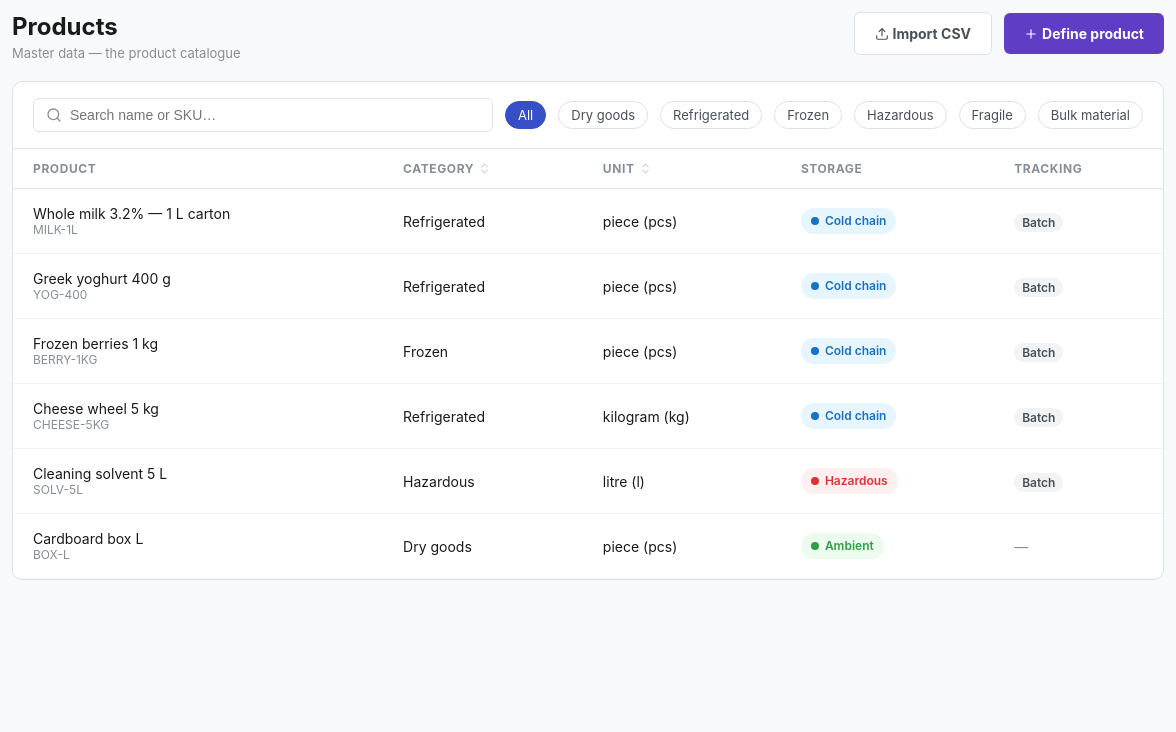
Test: ProductCatalogScreen › filters by search text
Expected: the text "Whole milk 3.2% — 1 L carton" is shown, [33,205,230,222]
Type "berries" into the field at (275, 115), box [70,107,480,123]
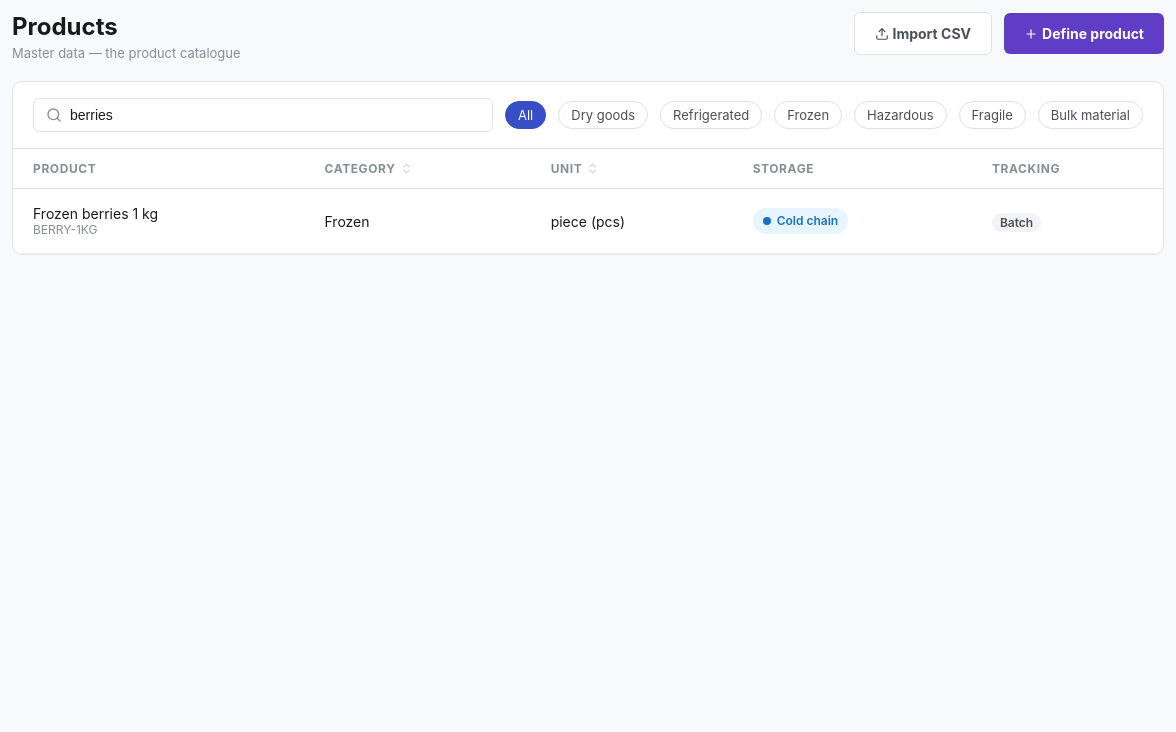
Result: the text "Frozen berries 1 kg" is shown at [33,205,158,222]
Result: the button "Whole milk 3.2% — 1 L carton" is gone
